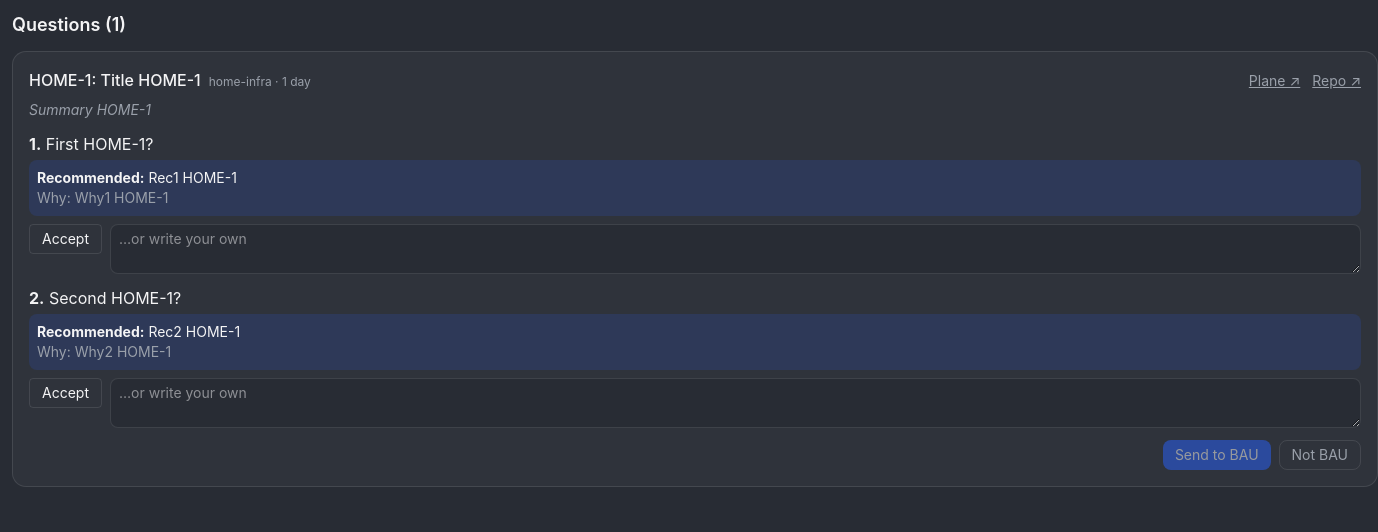
Test case: Questions › shows the error and keeps the card when send fails
Click the button "Accept" below "Why1 HOME-1" at [66, 239], box [29, 224, 102, 254]
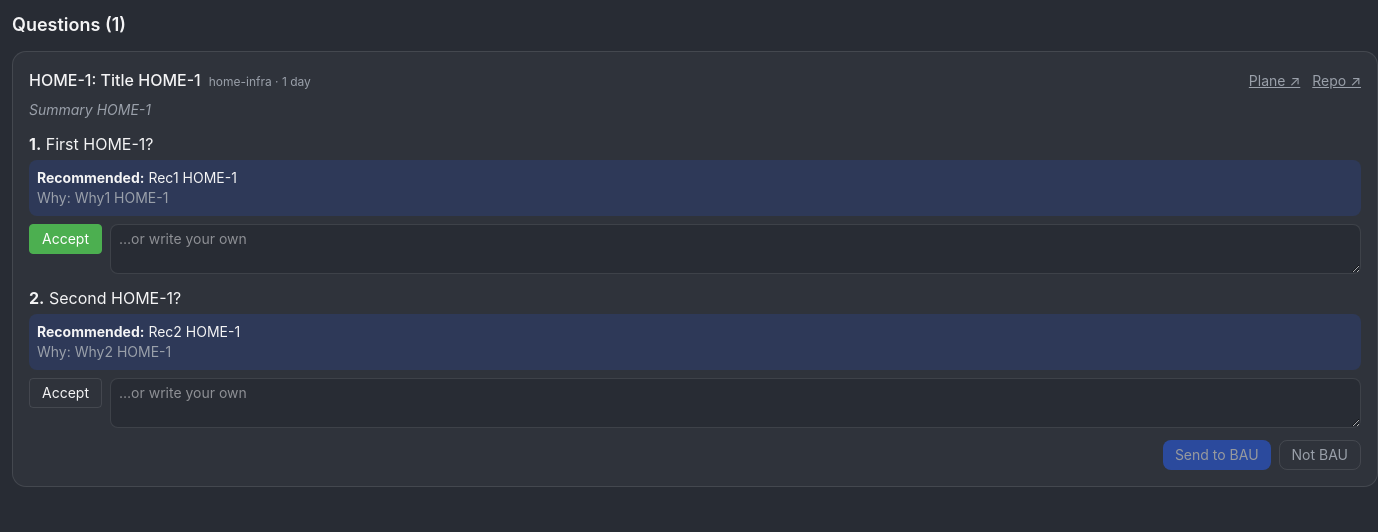
Click the button "Accept" below "Why2 HOME-1" at [66, 393], box [29, 378, 102, 408]
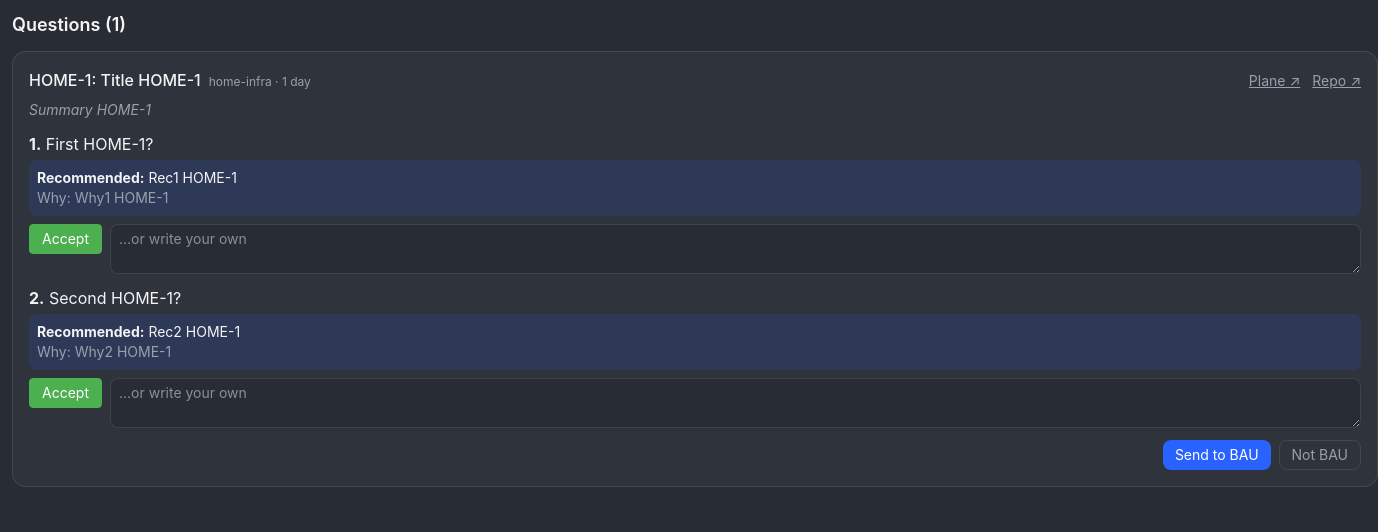
Click the button "Send to BAU" at [1217, 455], box [1163, 440, 1271, 470]
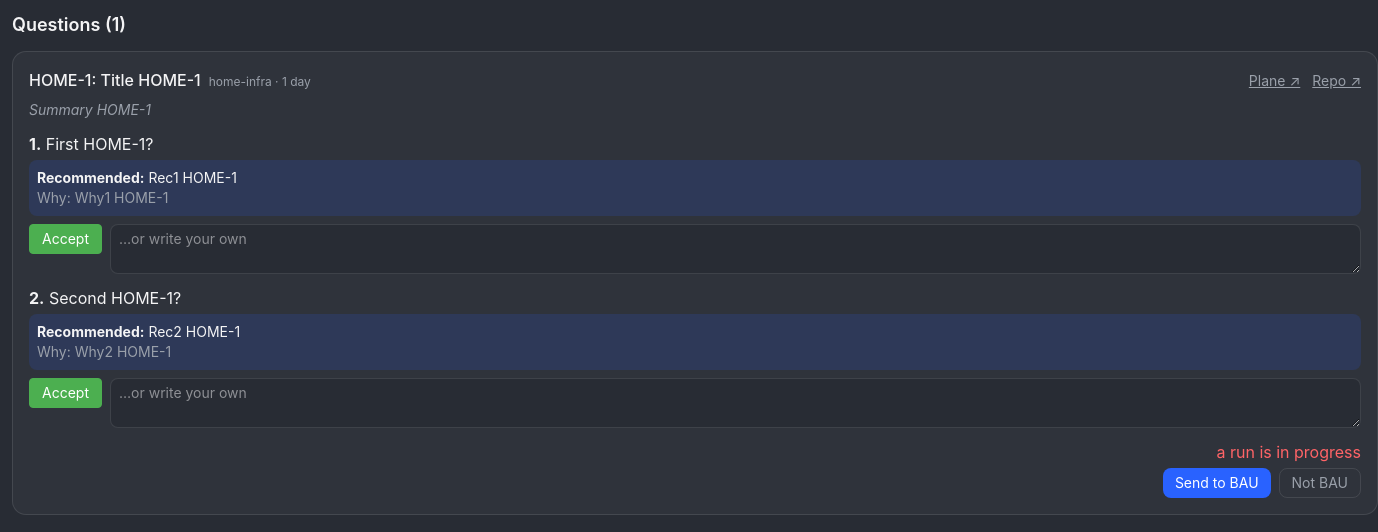
Expected: the text "First HOME-1?" is shown, [46, 134, 154, 154]
Expected: the text "a run is in progress" is shown, [1216, 440, 1361, 464]
